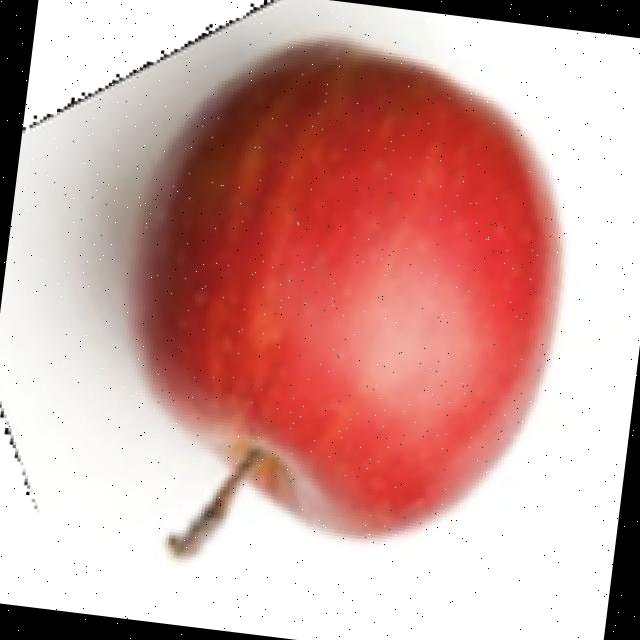apple: (54, 0, 571, 568)
